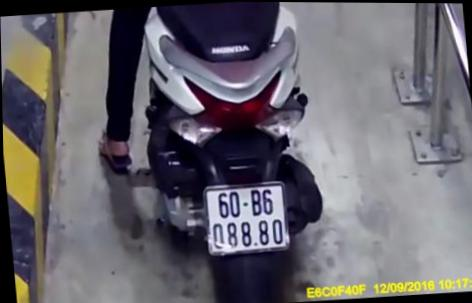LP: (201, 178, 291, 257)
